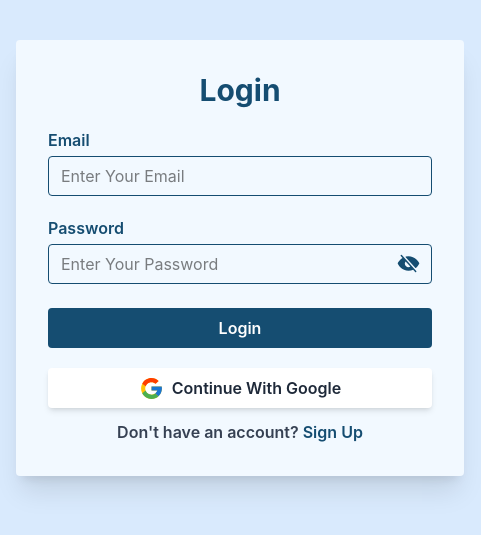
Test case: Login › shows validation errors on empty submit
Click the button "Login". click: (240, 328)
box: [48,308,432,348]
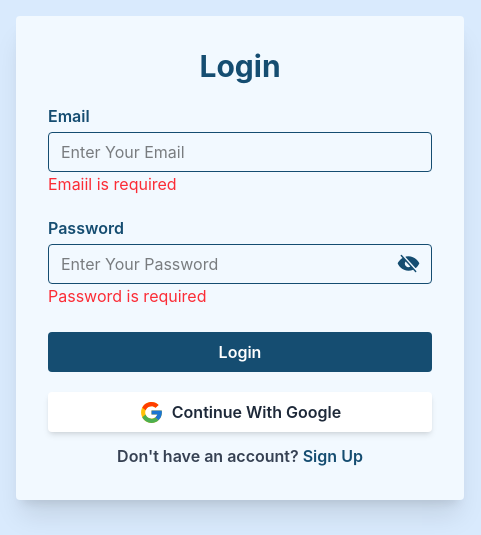
Expected: the text "Emaiil is required" is shown, [48,174,177,194]
Expected: the text "Password is required" is shown, [48,286,206,306]
